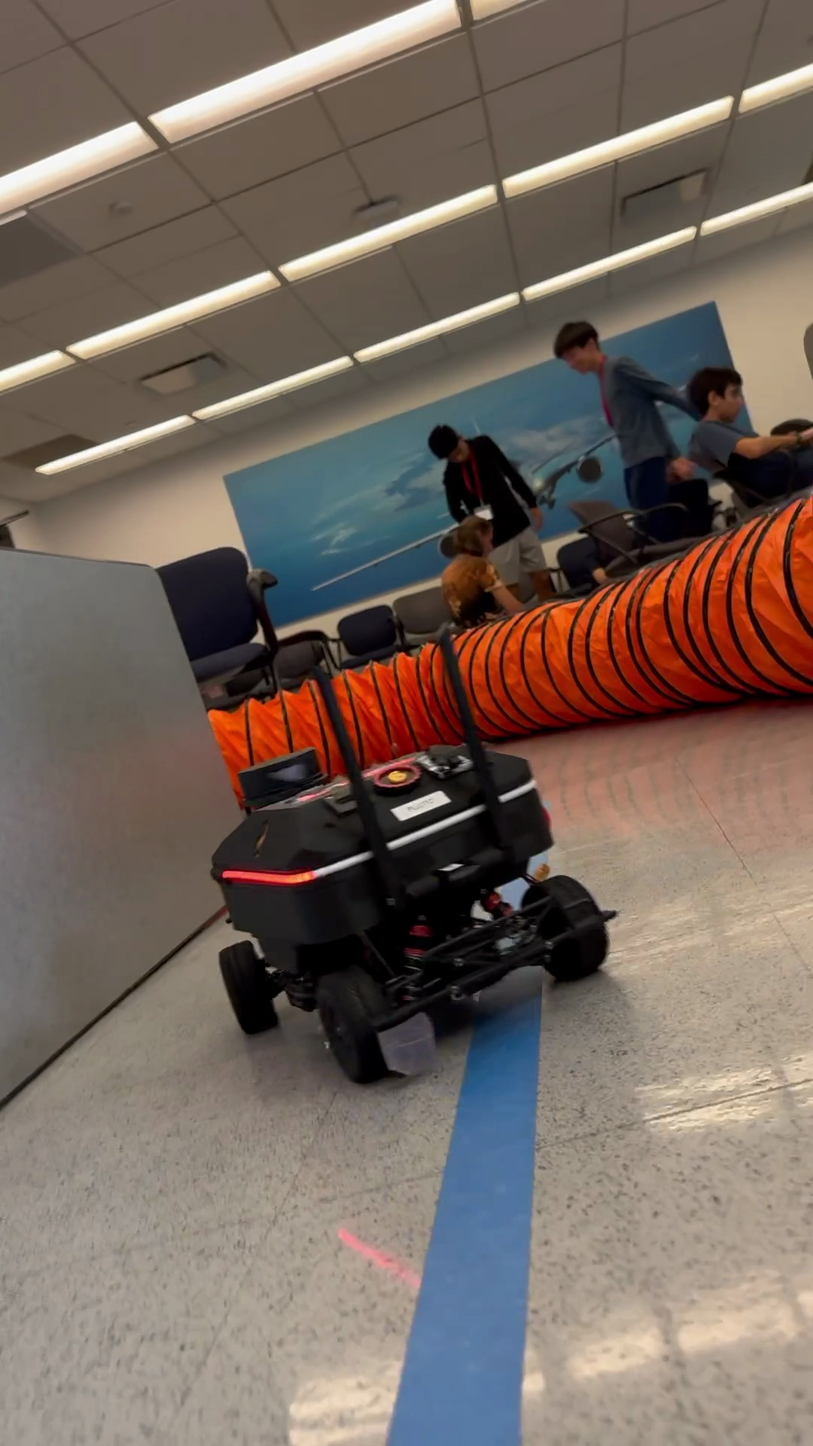racecar: (208, 633, 611, 1087)
